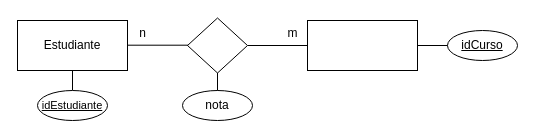
Some shapes in this 535 by 138 pixel diagram are drawn without their labels. Each missing label, with the box of its shape:
Curso: (306, 20, 418, 70)
rinde: (186, 17, 248, 73)
